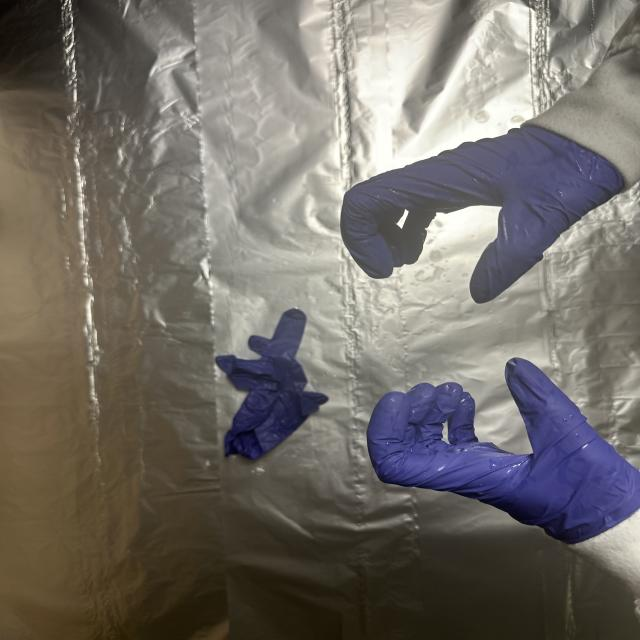gloves_contaminated: (367, 358, 640, 544), (340, 127, 622, 303)
